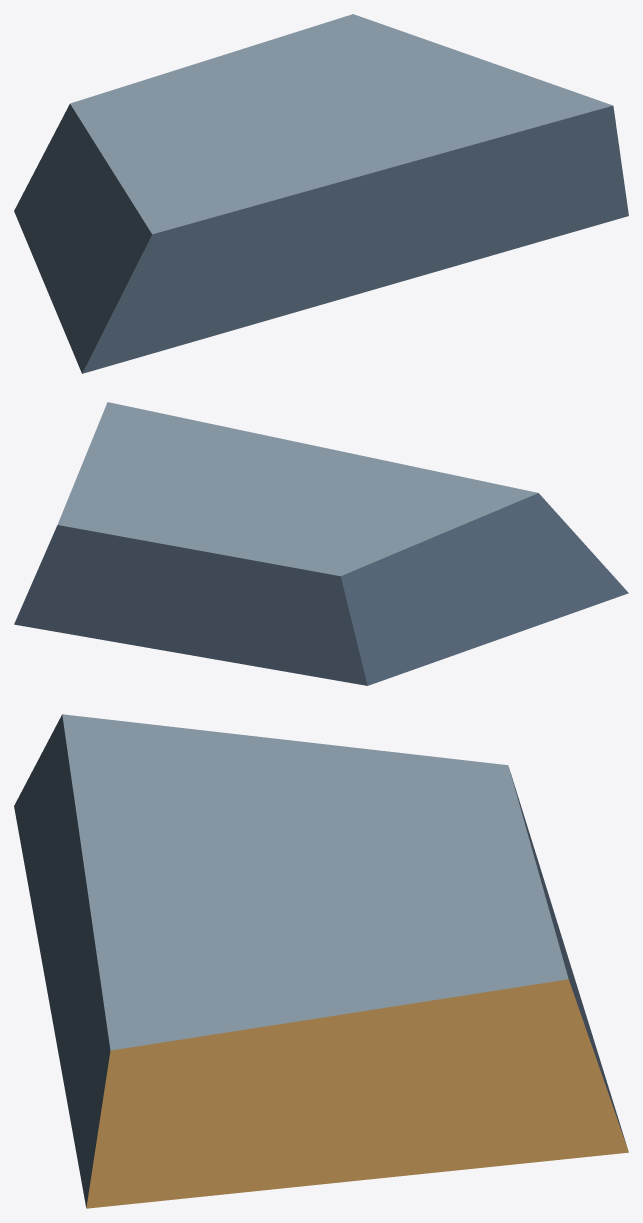
The model's file is hull_fragment.glb.
3 views of the same model, one above another, from view 1: azimuth 30°, elevation 25°; view 2: azimuth 150°, elevation 25°; view 3: azimuth 270°, elevation 25° (orthographic). The views are drawn at different scales.
Visible parts, largest first — view 1: Hull Fragment; view 2: Hull Fragment; view 3: Hull Fragment.
Part boxes in pixels (x1,y1,x2,y2): Hull Fragment: [14, 14, 628, 373]; Hull Fragment: [14, 402, 628, 685]; Hull Fragment: [14, 714, 628, 1208].
Bounding box in the file's own units: 0.79 × 0.14 × 0.51.
